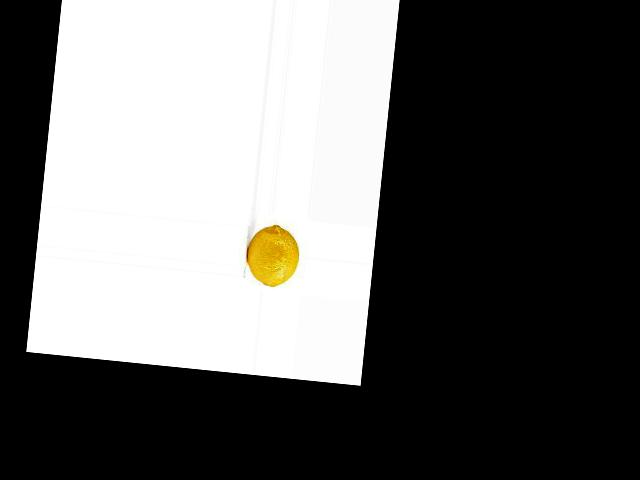lemon: (242, 213, 303, 295)
